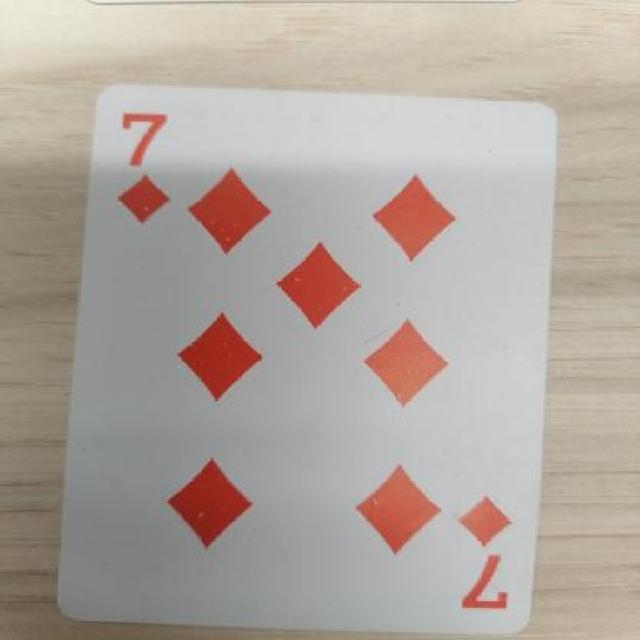7D: (92, 87, 193, 250), (446, 468, 517, 621)
